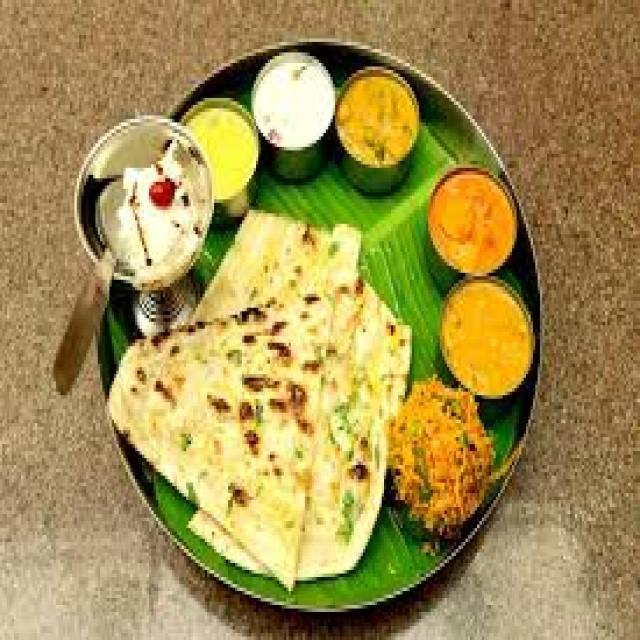curd: (249, 41, 343, 166)
rice: (390, 381, 492, 539)
roti: (140, 228, 419, 558)
sambar-rasam: (436, 273, 538, 401)
sweet: (88, 116, 208, 299)
veg-fry: (421, 167, 521, 281)
